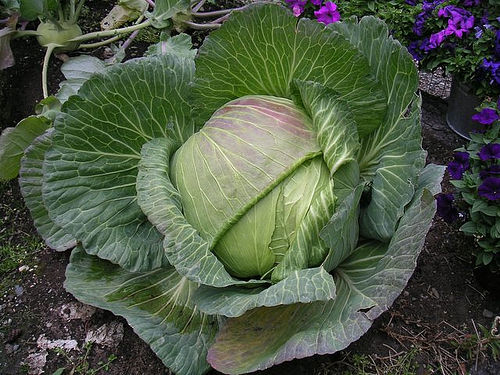cabbage: (16, 0, 446, 374)
